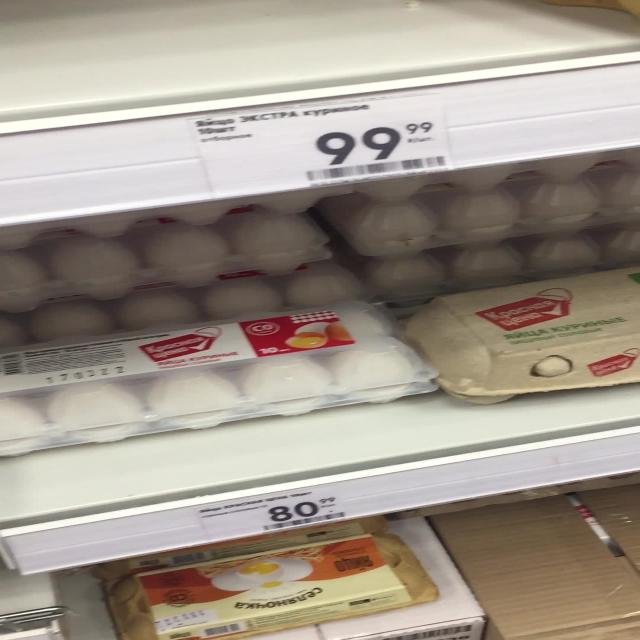egg box: (0, 298, 439, 466), (102, 513, 486, 637), (398, 263, 634, 410)
